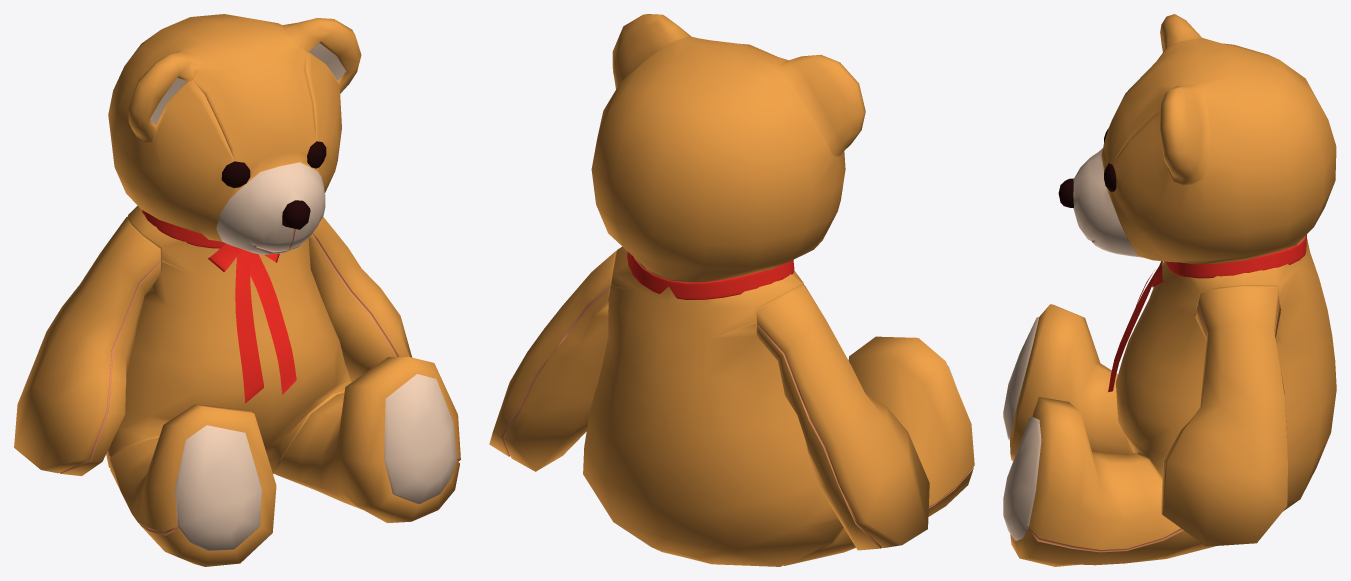
File: bear.glb
3 views of the same model, side by side, from view 1: azimuth 30°, elevation 25°; view 2: azimuth 150°, elevation 25°; view 3: azimuth 270°, elevation 25° (orthographic). The views are drawn at different scales.
Parts seen in each view (by area): view 1: world, Generic04; view 2: world, Generic04; view 3: world, Generic04.
Part boxes in pixels (x1,y1,x2,y2): world: (14, 14, 460, 566); Generic04: (142, 210, 296, 403); world: (489, 14, 974, 566); Generic04: (627, 252, 794, 299); world: (1003, 14, 1336, 566); Generic04: (1108, 234, 1306, 392).
Size of the model in its own units: 0.8653 by 1 by 0.652.
